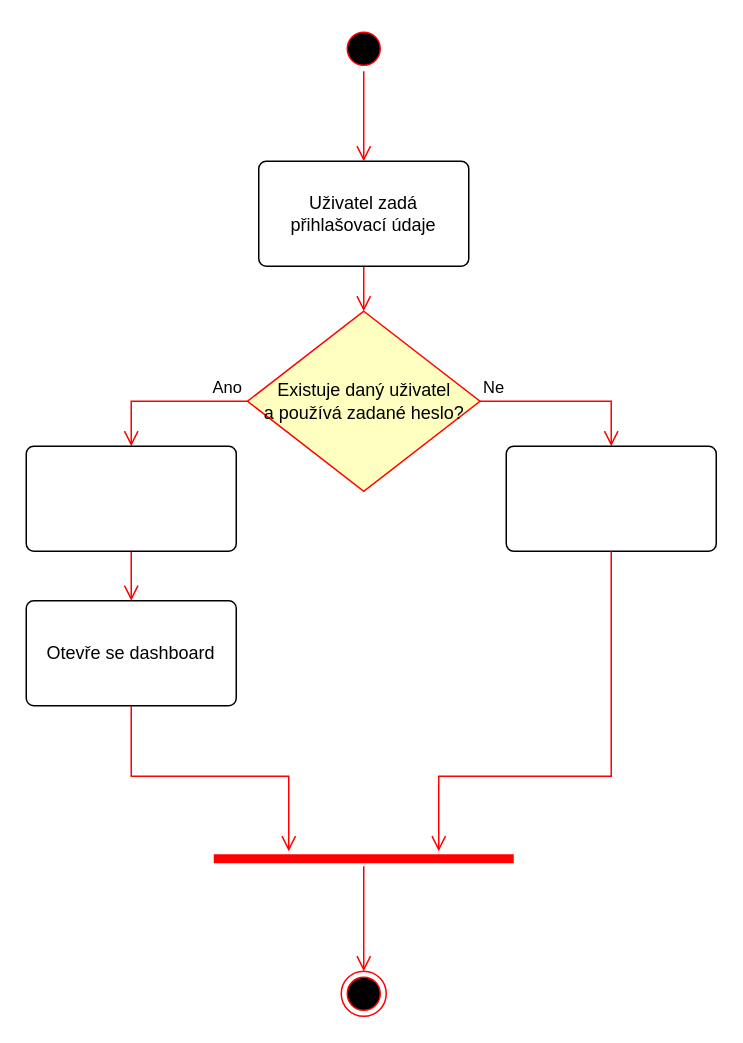
Some shapes in this 743 by 1043 pixel diagram are drawn without their labels. The centre of each missing label's shape, as x and y in pixels:
"Systém přihlásí uživatele" belongs at (x=130, y=498).
"Zobrazí se chybová hláška." belongs at (x=610, y=498).
